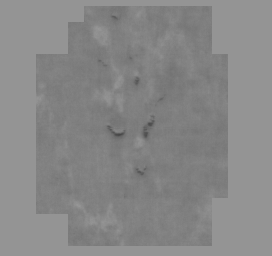oxl: (35, 10, 237, 246)
